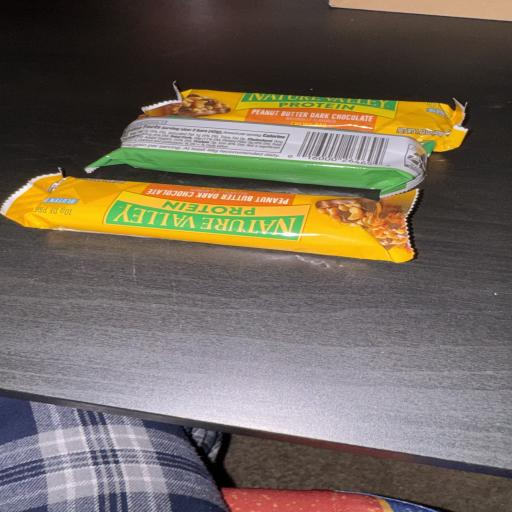granola: (86, 90, 466, 196), (0, 175, 416, 262)
